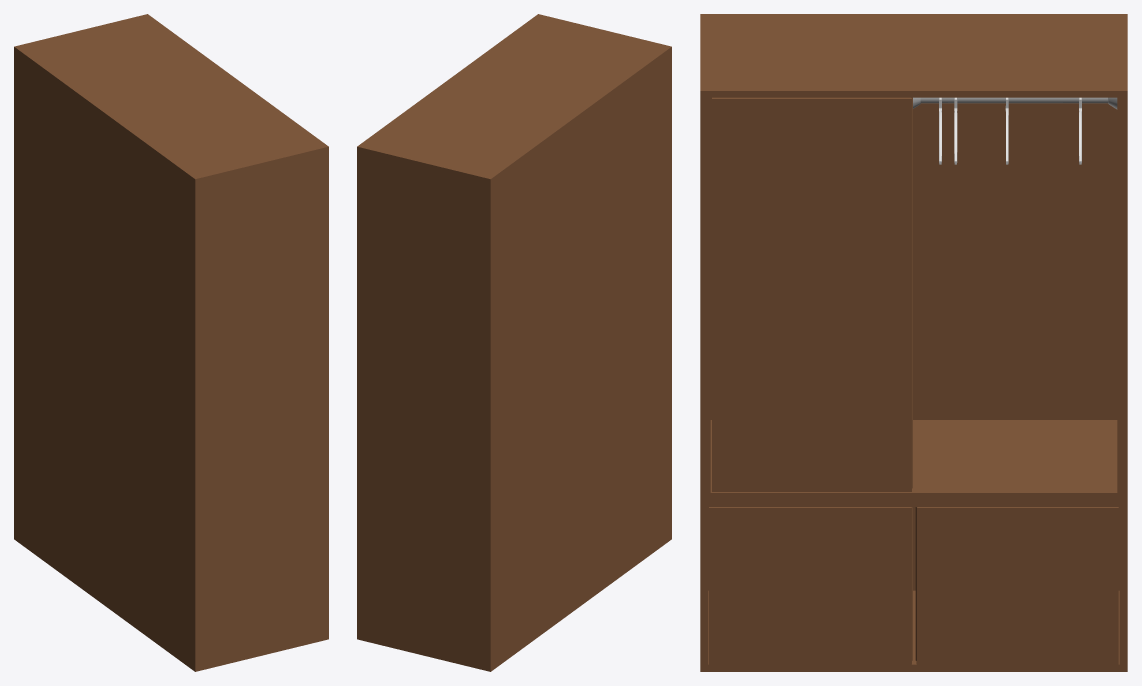
The model's file is Closet2.fbx.
The picture shows the model from 3 angles, left to right: view 1: azimuth 30°, elevation 25°; view 2: azimuth 150°, elevation 25°; view 3: azimuth 270°, elevation 25°; orthographic projection. The views are drawn at different scales.
Visible parts, largest first — view 1: Closet2; view 2: Closet2; view 3: Closet2.
Boxes of the visible parts, left/top/right/bottom form: Closet2: left=14, top=14, right=328, bottom=671; Closet2: left=357, top=14, right=671, bottom=671; Closet2: left=700, top=14, right=1127, bottom=671.
Size of the model in its own units: 400 by 170 by 600.
